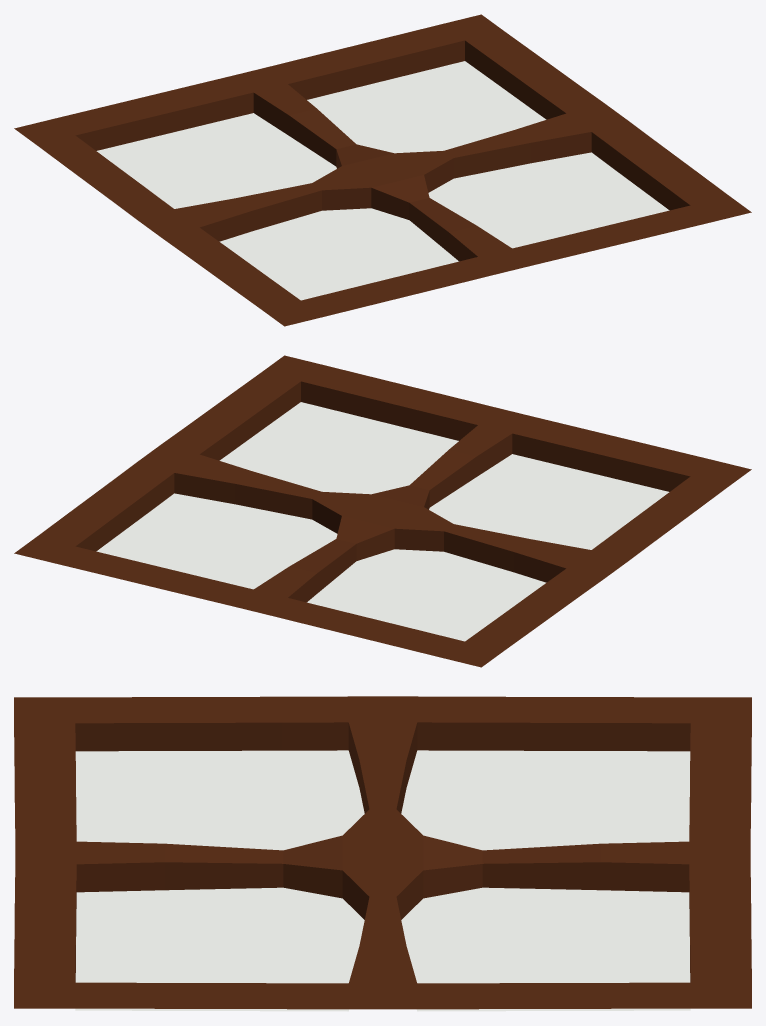
The model's file is Window2.fbx.
The picture shows the model from 3 angles, top to bottom: view 1: azimuth 30°, elevation 25°; view 2: azimuth 150°, elevation 25°; view 3: azimuth 270°, elevation 25°; orthographic projection. The views are drawn at different scales.
Visible parts, largest first — view 1: Plane.001, Plane; view 2: Plane.001, Plane; view 3: Plane.001, Plane.
Part boxes in pixels (x1,y1,x2,y2): Plane.001: (14,14,751,326); Plane: (97,61,668,300); Plane.001: (14,355,751,667); Plane: (97,402,668,641); Plane.001: (14,696,751,1009); Plane: (75,750,690,1011).
Bounding box in the file's own units: 241 × 10.07 × 240.
